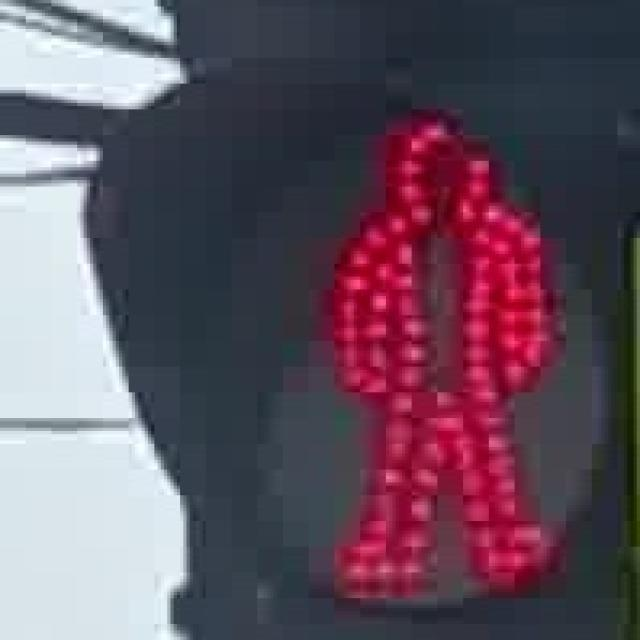red-crossing: (306, 90, 566, 605)
